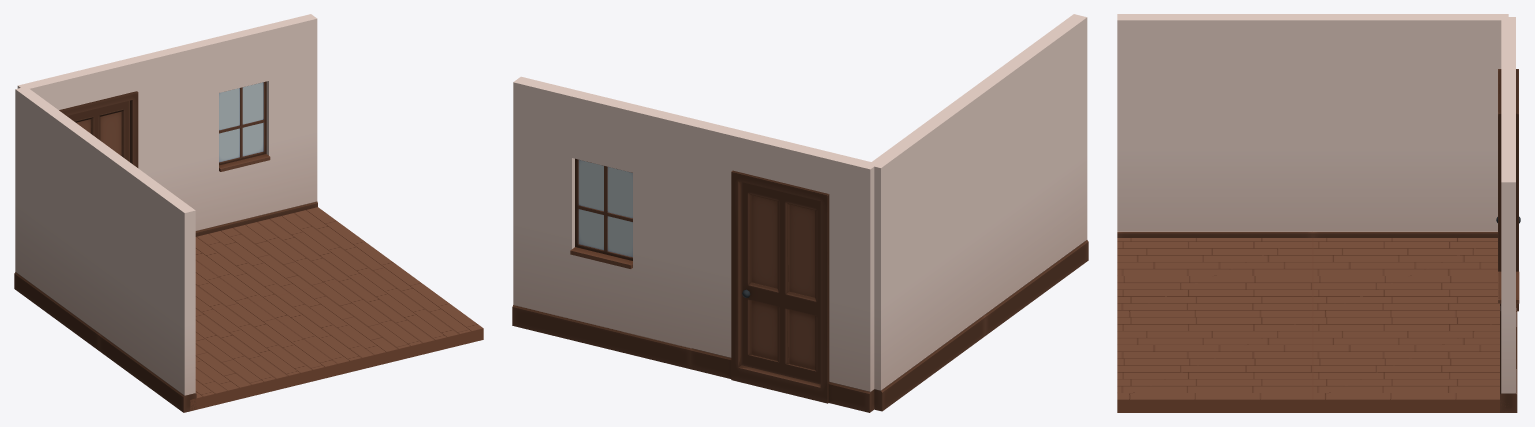
The model's file is All_Walls_Set up.fbx.
3 renders of one model, left to right at view 1: azimuth 30°, elevation 25°; view 2: azimuth 150°, elevation 25°; view 3: azimuth 270°, elevation 25°, orthographic. The views are drawn at different scales.
Parts seen in each view (by area): view 1: Wall1_Window, Wall4, Wall1, Floor3, Floor2, Floor4, Wall1_Doorway, Wall1_Glass, Door, Floor; view 2: Wall1_Window, Wall1_Doorway, Wall1, Wall4, Door, Wall1_Glass; view 3: Wall4, Wall1, Floor3, Floor2, Floor4, Floor, Wall1_Window, Wall1_Doorway.
Part boxes in pixels (left/top/right/bottom): Wall1_Window: left=164, top=14, right=317, bottom=236; Wall4: left=99, top=148, right=196, bottom=412; Wall1: left=14, top=87, right=110, bottom=350; Floor3: left=252, top=266, right=483, bottom=375; Floor2: left=195, top=207, right=398, bottom=301; Floor4: left=190, top=302, right=336, bottom=411; Wall1_Doorway: left=17, top=50, right=170, bottom=191; Wall1_Glass: left=219, top=82, right=263, bottom=162; Door: left=67, top=100, right=129, bottom=161; Floor: left=195, top=261, right=251, bottom=315; Wall1_Window: left=512, top=76, right=698, bottom=369; Wall1_Doorway: left=691, top=120, right=877, bottom=412; Wall1: left=868, top=89, right=985, bottom=411; Wall4: left=971, top=14, right=1088, bottom=335; Door: left=741, top=182, right=820, bottom=384; Wall1_Glass: left=578, top=160, right=632, bottom=257; Wall4: left=1117, top=14, right=1312, bottom=237; Wall1: left=1313, top=14, right=1508, bottom=237; Floor3: left=1117, top=317, right=1312, bottom=412; Floor2: left=1313, top=317, right=1506, bottom=412; Floor4: left=1117, top=238, right=1312, bottom=316; Floor: left=1313, top=238, right=1499, bottom=316; Wall1_Window: left=1498, top=99, right=1519, bottom=412; Wall1_Doorway: left=1498, top=17, right=1518, bottom=311.
Size of the model in its own units: 409 by 260 by 412.
Materials: 4 (4 with a texture image).
